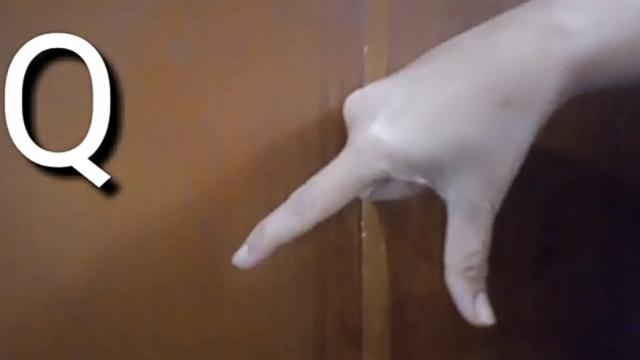Q: (228, 1, 566, 333)
